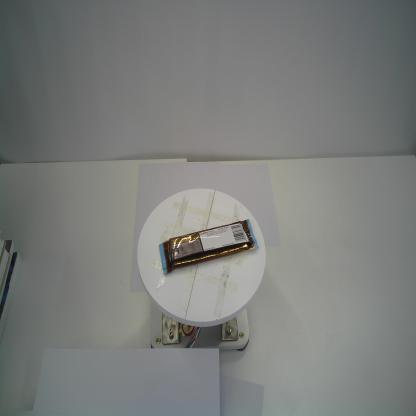Chocolate: (159, 218, 259, 276)
